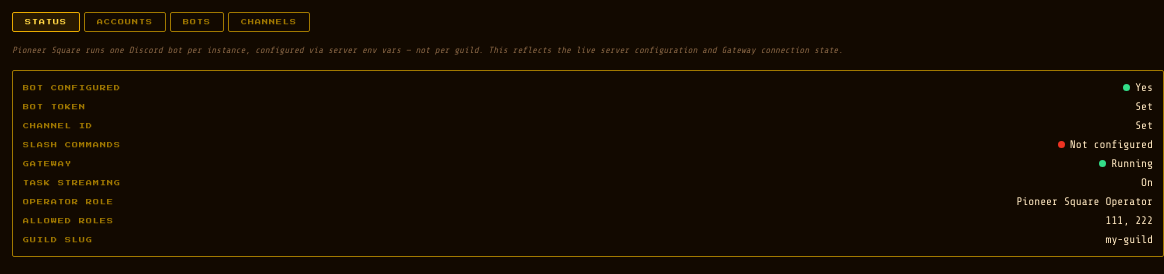
Test: GuildDiscordSettings › lists linked Discord accounts
Click the button with class "foreman-tool-tab" showing "Accounts".
click(125, 22)  # box [84, 12, 166, 32]
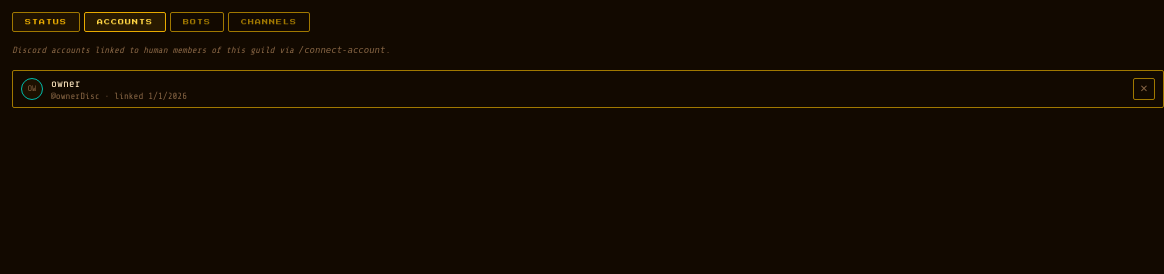
Expected: the text "owner" is shown, [51, 77, 81, 90]
Expected: the text "ownerDisc" is shown, [51, 91, 187, 101]
